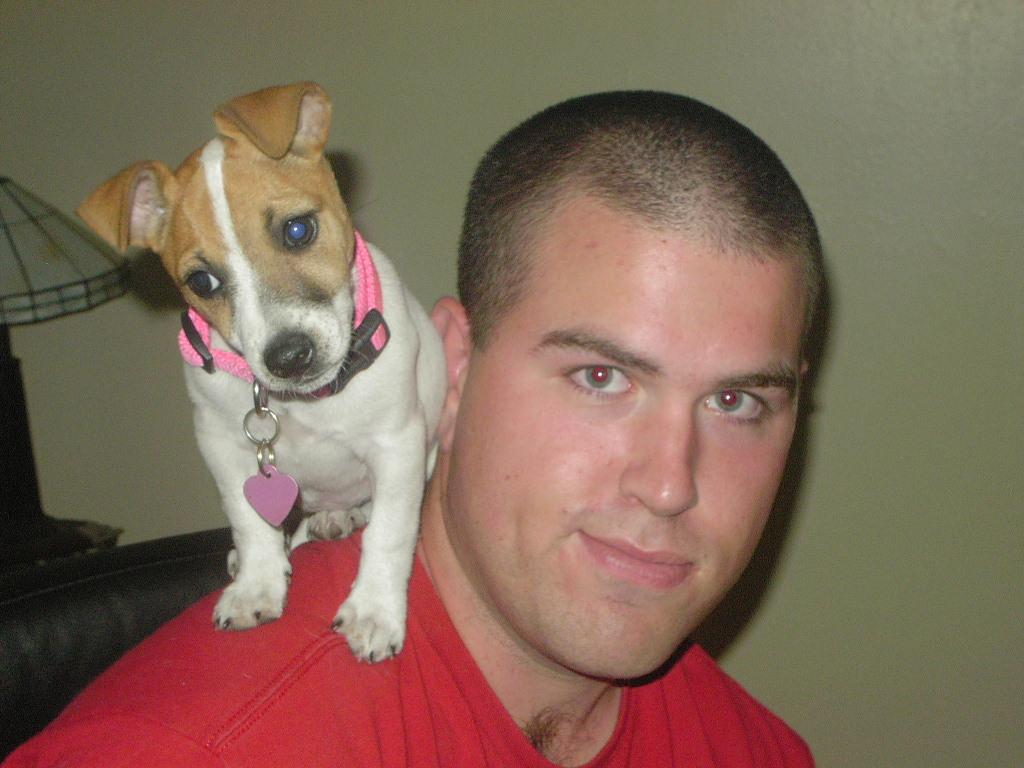Sem Máscara: (442, 234, 797, 674)
